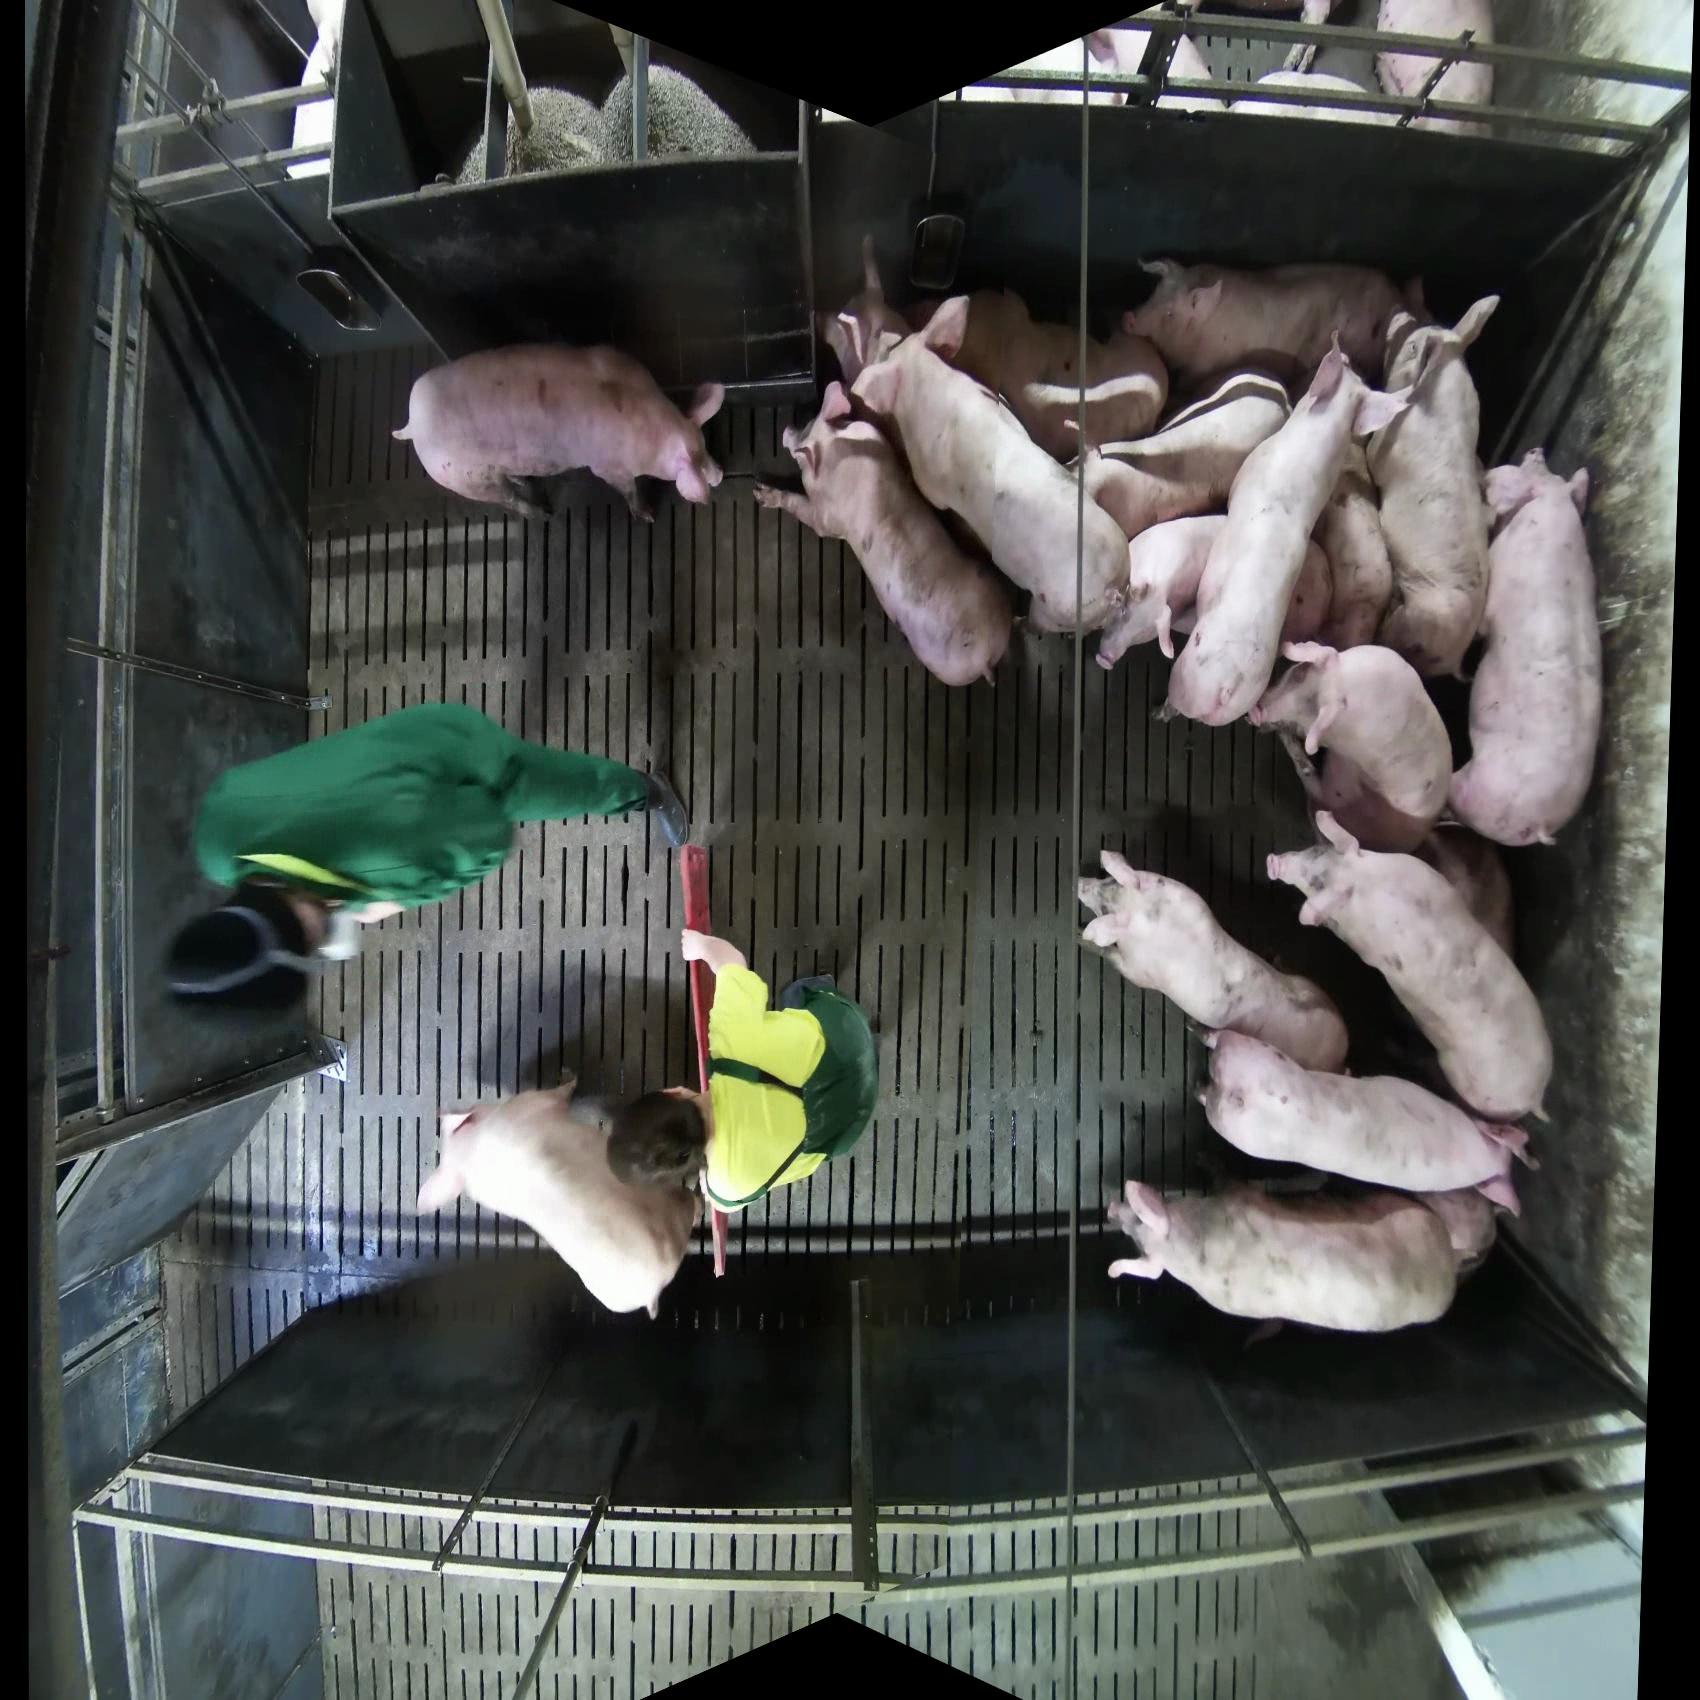pig: (752, 236, 1607, 1337), (826, 288, 1133, 639), (1152, 330, 1417, 730), (1265, 815, 1555, 1125), (751, 379, 1018, 691), (416, 1068, 711, 1320), (1194, 1027, 1539, 1219), (1448, 447, 1605, 850), (1104, 1174, 1494, 1336), (390, 341, 728, 527), (1077, 847, 1350, 1075), (1363, 293, 1502, 680), (1247, 638, 1455, 854), (915, 286, 1171, 463), (1121, 253, 1433, 392), (433, 64, 759, 188), (1066, 365, 1293, 538), (1094, 512, 1336, 673), (436, 86, 613, 185), (1375, 1, 1497, 136), (599, 63, 758, 164), (1418, 823, 1517, 962), (1229, 70, 1406, 132)
worker: (414, 842, 882, 1321), (161, 698, 688, 1010), (670, 843, 882, 1281)
